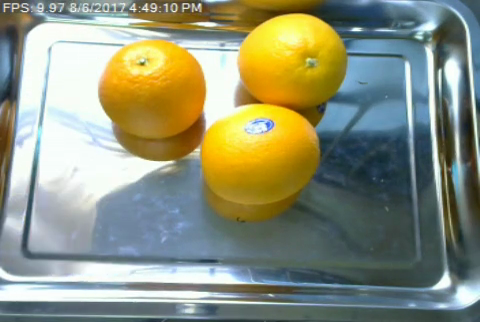Orange: (199, 102, 321, 204), (97, 39, 205, 138), (238, 13, 346, 105)
